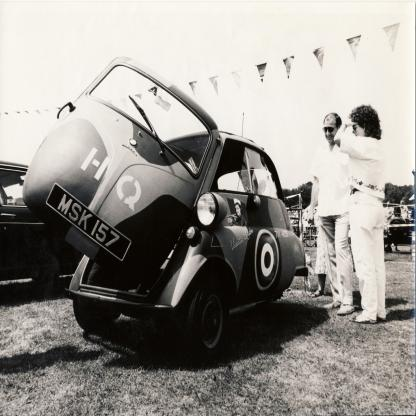Car: (22, 54, 309, 358), (1, 156, 81, 285)
